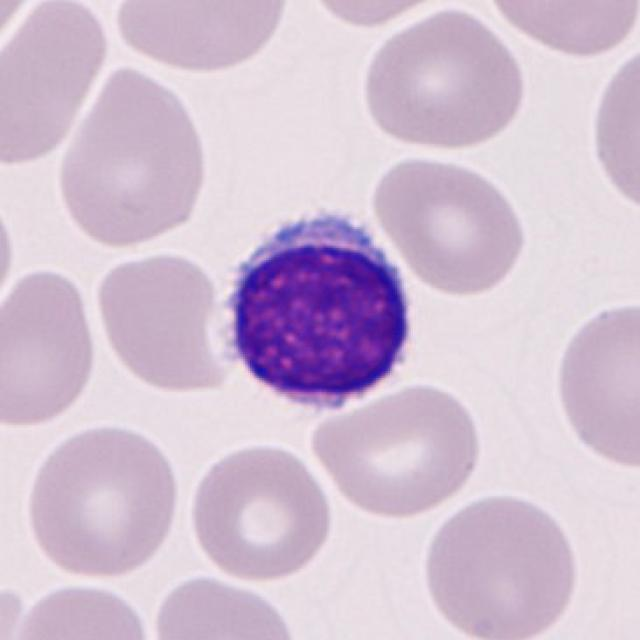Lymphocyte: (206, 196, 425, 425)
RBC: (51, 62, 213, 254), (21, 418, 185, 583), (306, 376, 488, 522), (357, 4, 530, 154), (414, 489, 582, 640), (369, 153, 532, 298), (186, 437, 340, 585), (91, 247, 239, 396), (0, 0, 114, 168), (0, 264, 101, 432), (551, 293, 638, 474), (108, 0, 293, 76), (148, 572, 300, 640), (4, 576, 158, 640), (587, 36, 640, 218), (479, 0, 637, 61), (297, 0, 469, 31), (0, 0, 45, 57), (0, 186, 19, 319), (0, 570, 28, 640)
